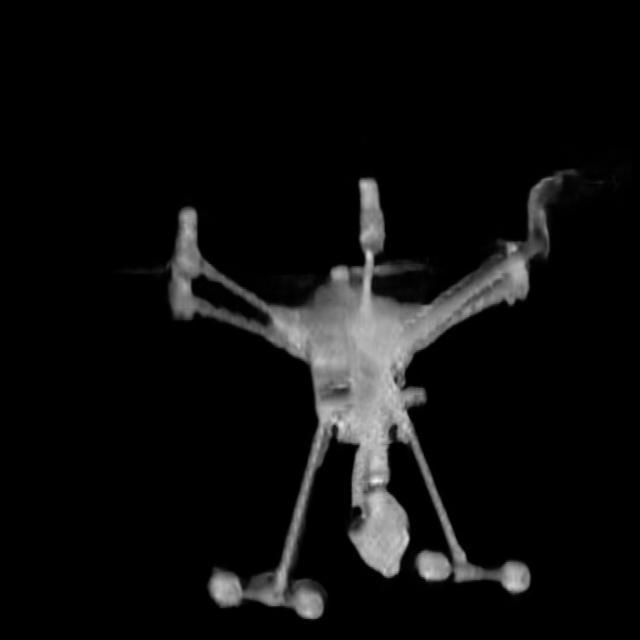drone: (111, 147, 640, 626)
